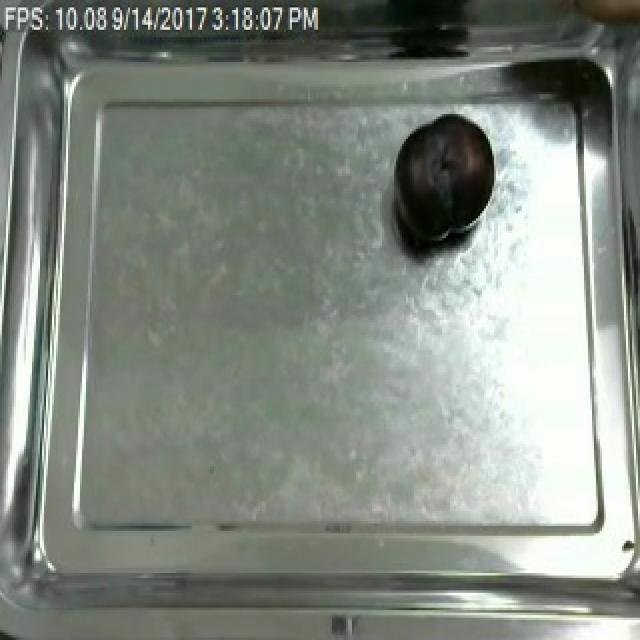Fruit: (388, 109, 498, 253)
